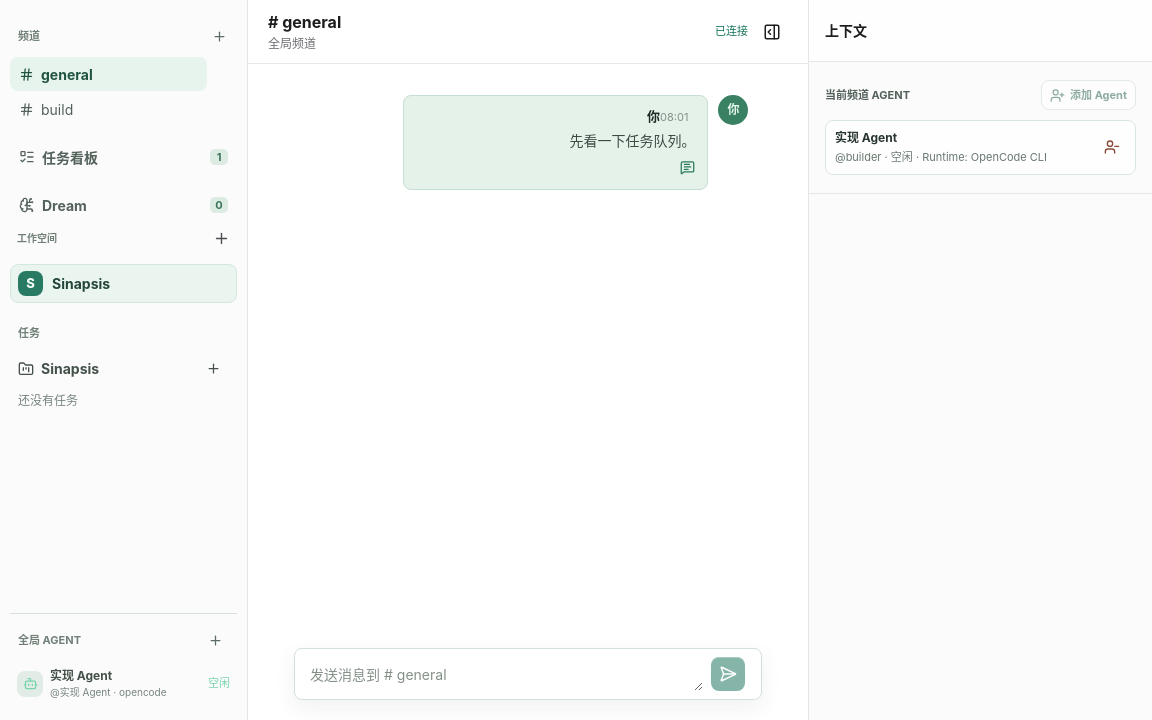
Test: WorkspaceShell › keeps the workspace dialog open when its bootstrap refresh fails
Click the button named "添加工作空间".
click(221, 238)  # box [205,222,237,254]
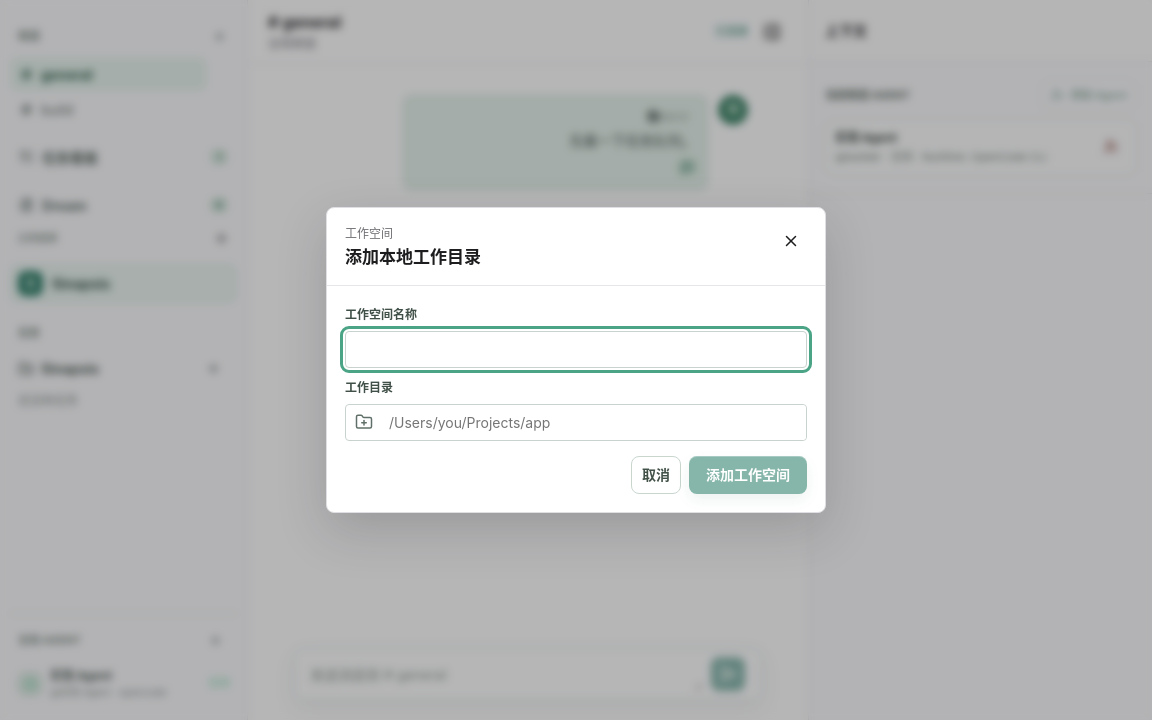
Type "Release" into the field labelled "工作空间名称".
click(576, 349); type("Release")  # box [345,331,807,368]
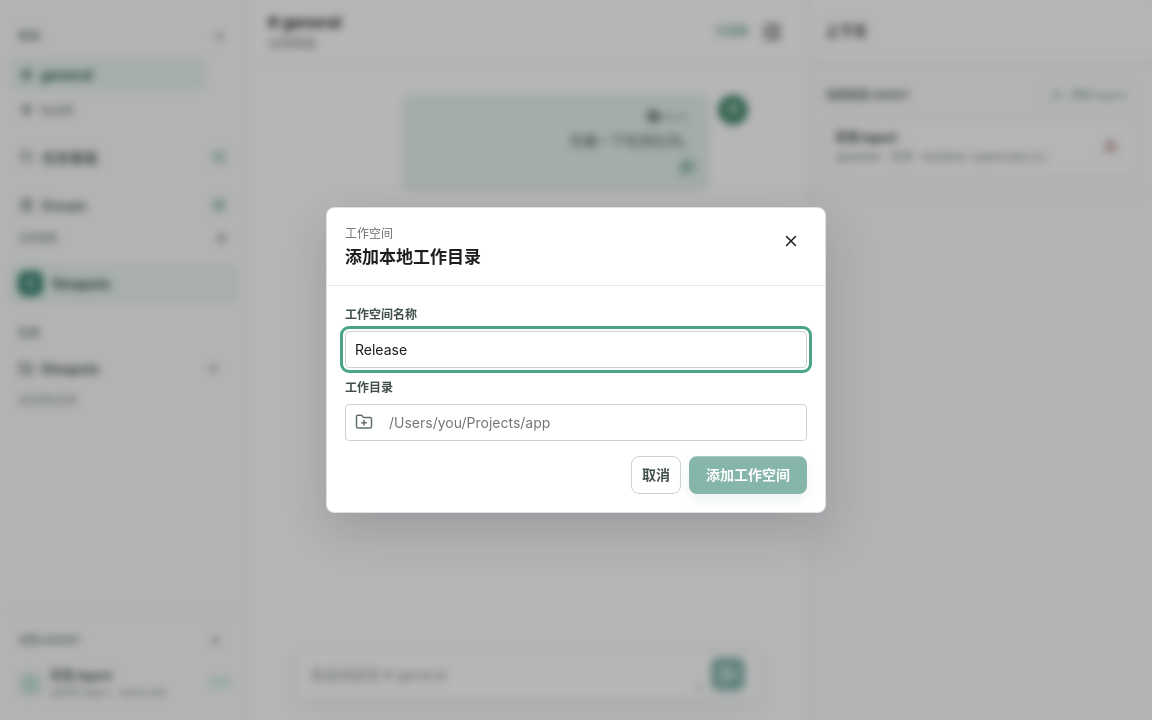
Type "/code/release" into the field labelled "工作目录".
click(593, 422); type("/code/release")  # box [380,405,806,440]
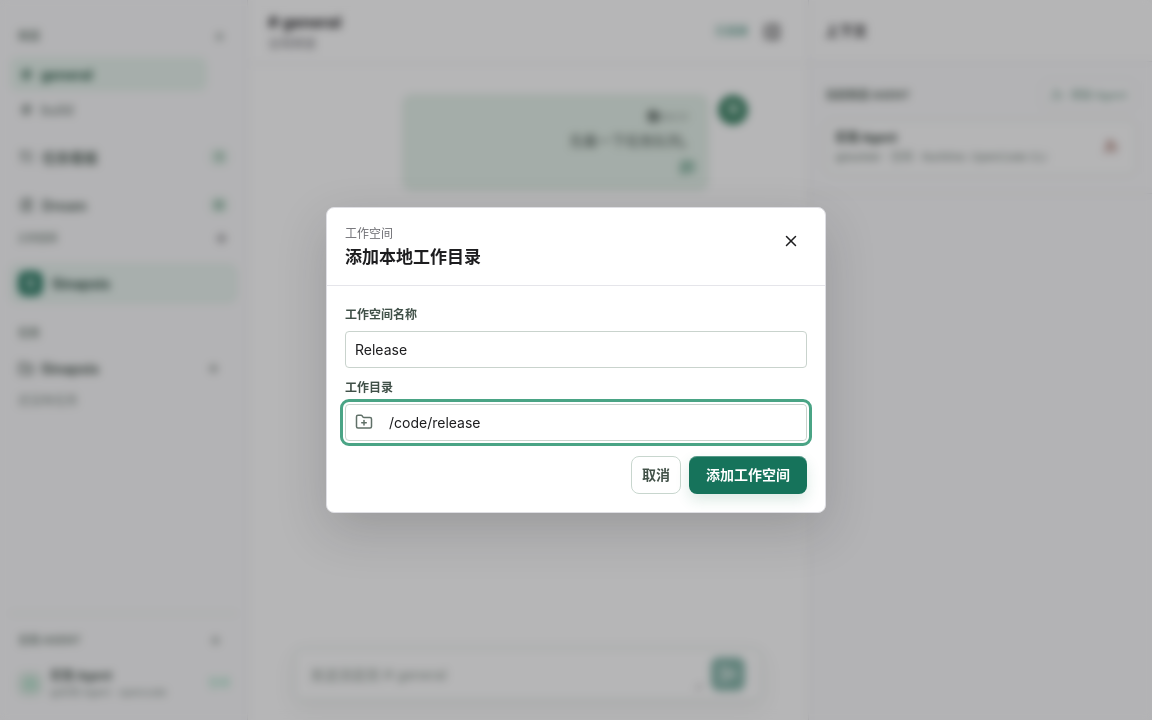
Click the button "添加工作空间".
click(748, 475)  # box [689,456,807,494]
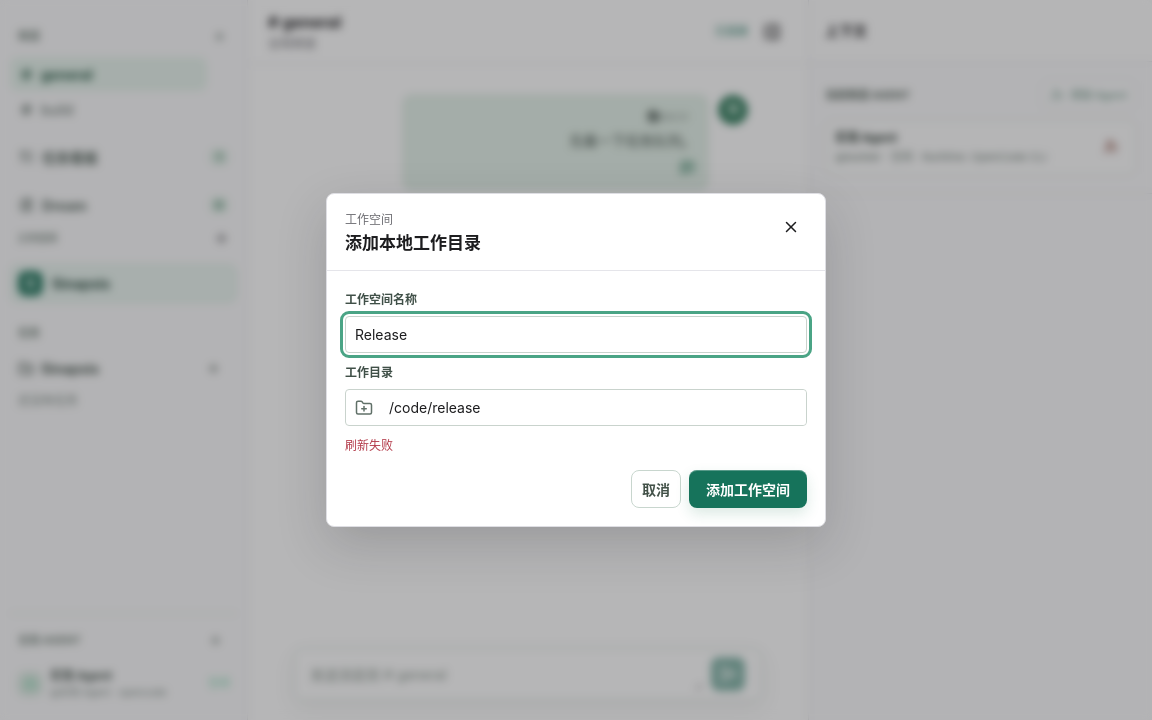
Now the dialog "添加本地工作目录" is shown, box [326,193,826,527]
Now the message reads "刷新失败", box [345,438,393,453]
